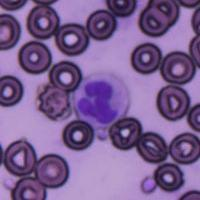N: (72, 70, 130, 128)
